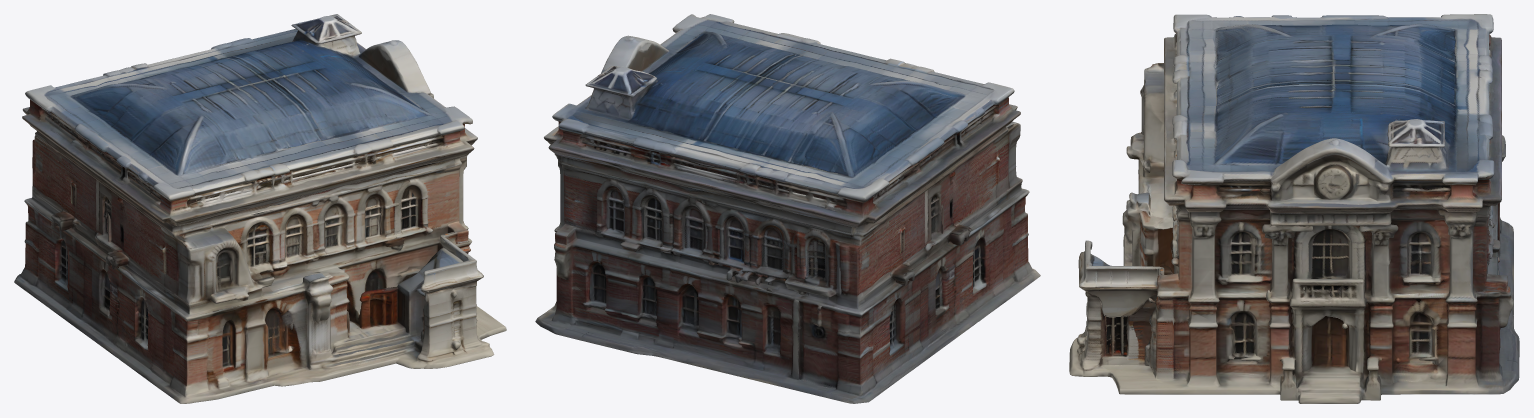
File: building-library.glb
3 renders of one model, left to right at view 1: azimuth 30°, elevation 25°; view 2: azimuth 150°, elevation 25°; view 3: azimuth 270°, elevation 25°, orthographic. The views are drawn at different scales.
Visible parts, largest first — view 1: tripo_node_2980f6df-4d47-4647-94bb-e6140513d454; view 2: tripo_node_2980f6df-4d47-4647-94bb-e6140513d454; view 3: tripo_node_2980f6df-4d47-4647-94bb-e6140513d454.
Boxes of the visible parts, <box> form: tripo_node_2980f6df-4d47-4647-94bb-e6140513d454: <box>14,14,506,403</box>; tripo_node_2980f6df-4d47-4647-94bb-e6140513d454: <box>535,14,1040,403</box>; tripo_node_2980f6df-4d47-4647-94bb-e6140513d454: <box>1069,14,1519,403</box>.
Bounding box in the file's own units: 17.04 × 11 × 17.94.
Materials: 1 (1 with a texture image).
